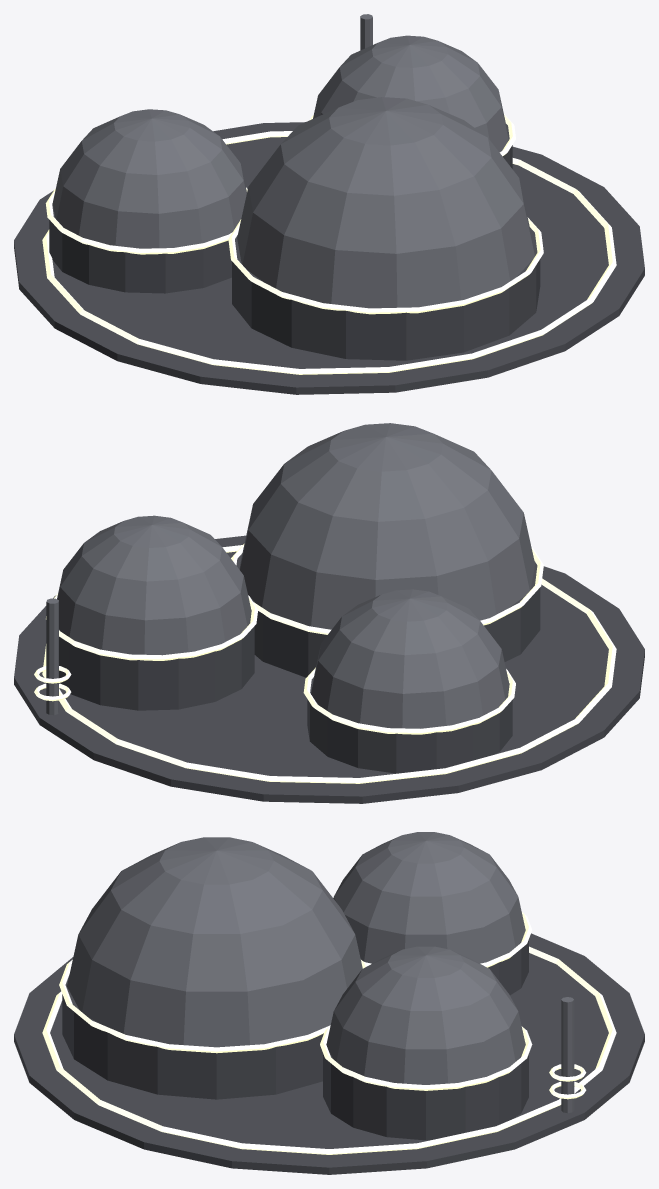
Rendered from zone_low_6_t2.glb.
3 views of the same model, one above another, from view 1: azimuth 30°, elevation 25°; view 2: azimuth 150°, elevation 25°; view 3: azimuth 270°, elevation 25° (orthographic).
Visible parts, largest first — view 1: zone_low_6_t2, detail; view 2: zone_low_6_t2, detail; view 3: zone_low_6_t2, detail.
Part boxes in pixels (<box>): zone_low_6_t2: <box>14,35,644,394</box>; detail: <box>42,14,616,374</box>; zone_low_6_t2: <box>14,423,644,803</box>; detail: <box>34,545,616,783</box>; zone_low_6_t2: <box>14,832,644,1174</box>; detail: <box>42,946,616,1154</box>.
Bounding box in the file's own units: 19.6 × 6.55 × 19.6.
